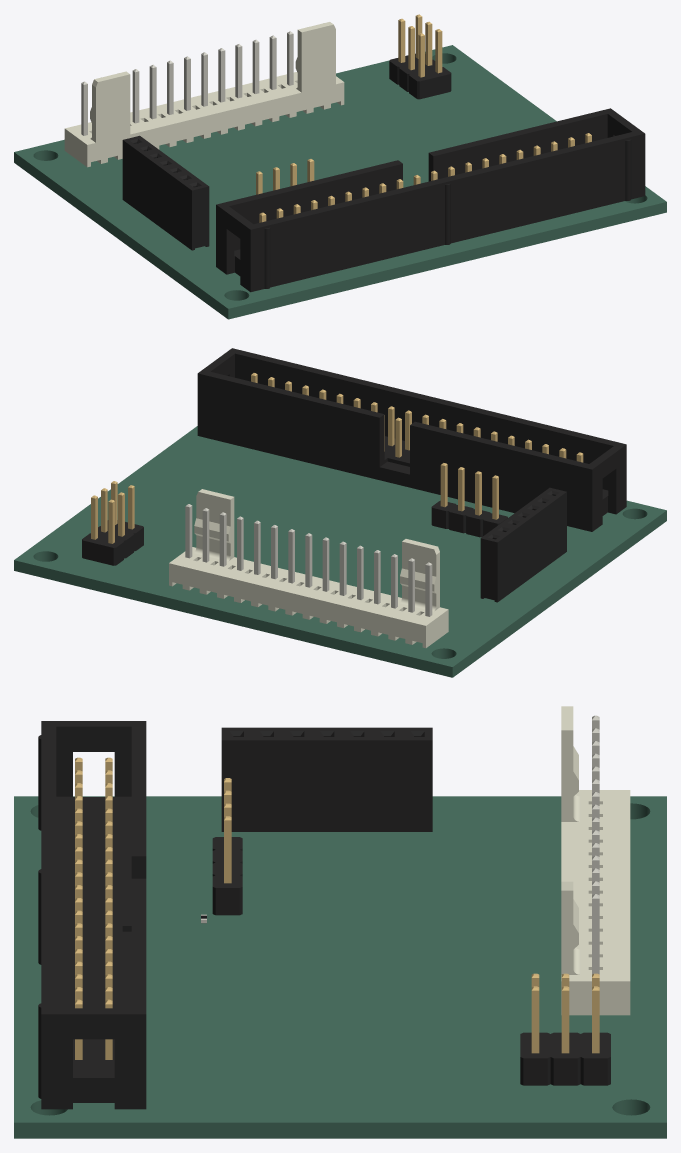
Rendered from pitalk_pcb_3d.glb.
The picture shows the model from 3 angles, top to bottom: view 1: azimuth 30°, elevation 25°; view 2: azimuth 150°, elevation 25°; view 3: azimuth 270°, elevation 25°; orthographic projection. The views are drawn at different scales.
Visible parts, largest first — view 1: =>[0:1:1:14], =>[0:1:1:3], =>[0:1:1:5], =>[0:1:1:9], =>[0:1:1:7], =>[0:1:1:11]; view 2: =>[0:1:1:14], =>[0:1:1:3], =>[0:1:1:5], =>[0:1:1:9], =>[0:1:1:7], =>[0:1:1:11]; view 3: =>[0:1:1:14], =>[0:1:1:3], =>[0:1:1:9], =>[0:1:1:5], =>[0:1:1:7], =>[0:1:1:11].
Part boxes in pixels (x1=…): =>[0:1:1:14]: x1=14, y1=45, x2=666, y2=319; =>[0:1:1:3]: x1=216, y1=108, x2=645, y2=292; =>[0:1:1:5]: x1=64, y1=22, x2=344, y2=167; =>[0:1:1:9]: x1=122, y1=135, x2=209, y2=250; =>[0:1:1:7]: x1=389, y1=14, x2=451, y2=99; =>[0:1:1:11]: x1=256, y1=159, x2=314, y2=194; =>[0:1:1:14]: x1=14, y1=426, x2=666, y2=677; =>[0:1:1:3]: x1=197, y1=348, x2=626, y2=531; =>[0:1:1:5]: x1=169, y1=489, x2=448, y2=648; =>[0:1:1:9]: x1=480, y1=487, x2=566, y2=602; =>[0:1:1:7]: x1=82, y1=481, x2=143, y2=565; =>[0:1:1:11]: x1=431, y1=463, x2=507, y2=537; =>[0:1:1:14]: x1=14, y1=796, x2=666, y2=1138; =>[0:1:1:3]: x1=38, y1=721, x2=146, y2=1109; =>[0:1:1:9]: x1=221, y1=727, x2=432, y2=831; =>[0:1:1:5]: x1=561, y1=706, x2=630, y2=1015; =>[0:1:1:7]: x1=520, y1=973, x2=610, y2=1085; =>[0:1:1:11]: x1=212, y1=778, x2=242, y2=915.
Bounding box in the file's own units: 0.065 × 0.0153 × 0.055.
